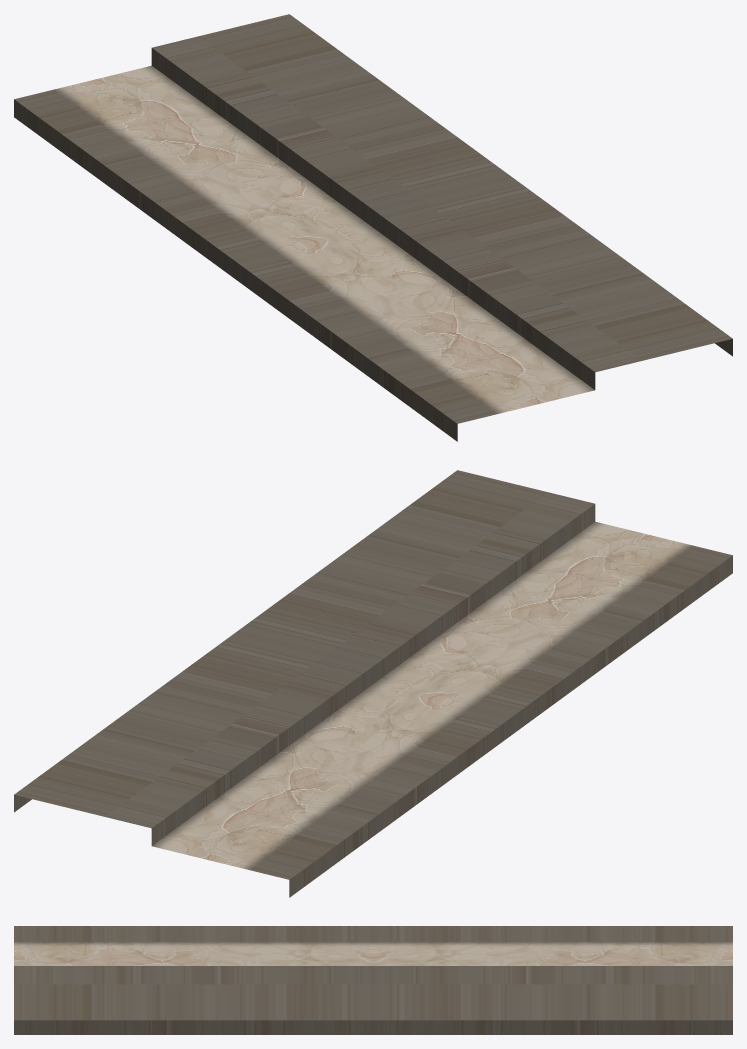
File: Vin_steps.fbx
The picture shows the model from 3 angles, top to bottom: view 1: azimuth 30°, elevation 25°; view 2: azimuth 150°, elevation 25°; view 3: azimuth 270°, elevation 25°; orthographic projection. The views are drawn at different scales.
Visible parts, largest first — view 1: Vin_steps; view 2: Vin_steps; view 3: Vin_steps.
Boxes of the visible parts, x1,y1,x2,y2 form: Vin_steps: [14, 14, 732, 441]; Vin_steps: [14, 470, 732, 897]; Vin_steps: [14, 926, 732, 1034].
Bounding box in the file's own units: 112 × 13.95 × 312.
